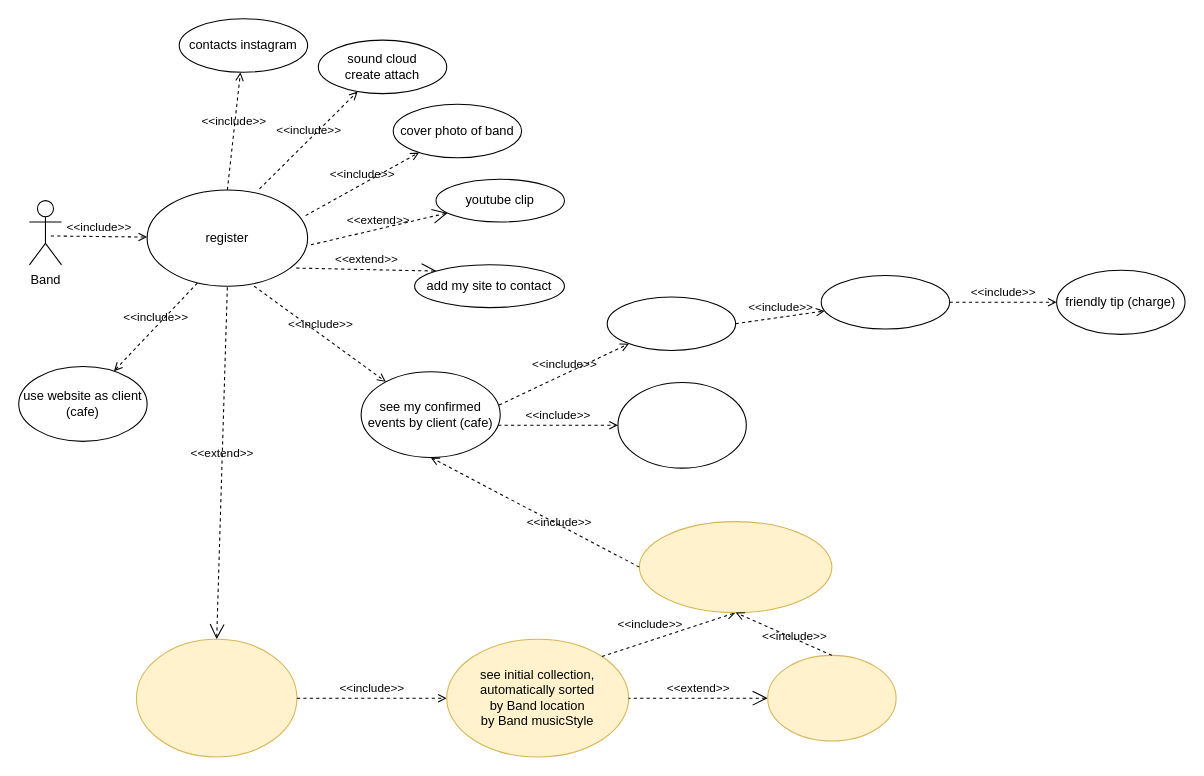
Image size: 1204x776. Some labels were removed from this diagram. Each missing label, with the centre of its shape:
confirm from your side: point 671,323
inform if event cancelled: point 681,424
make custom filter: point 831,697
make performance (live): point 885,301
see hidden (from usual users) client-cafe collection in Band profile: point 216,697
Send "Check me out!" request to client(cafe): point 735,567
